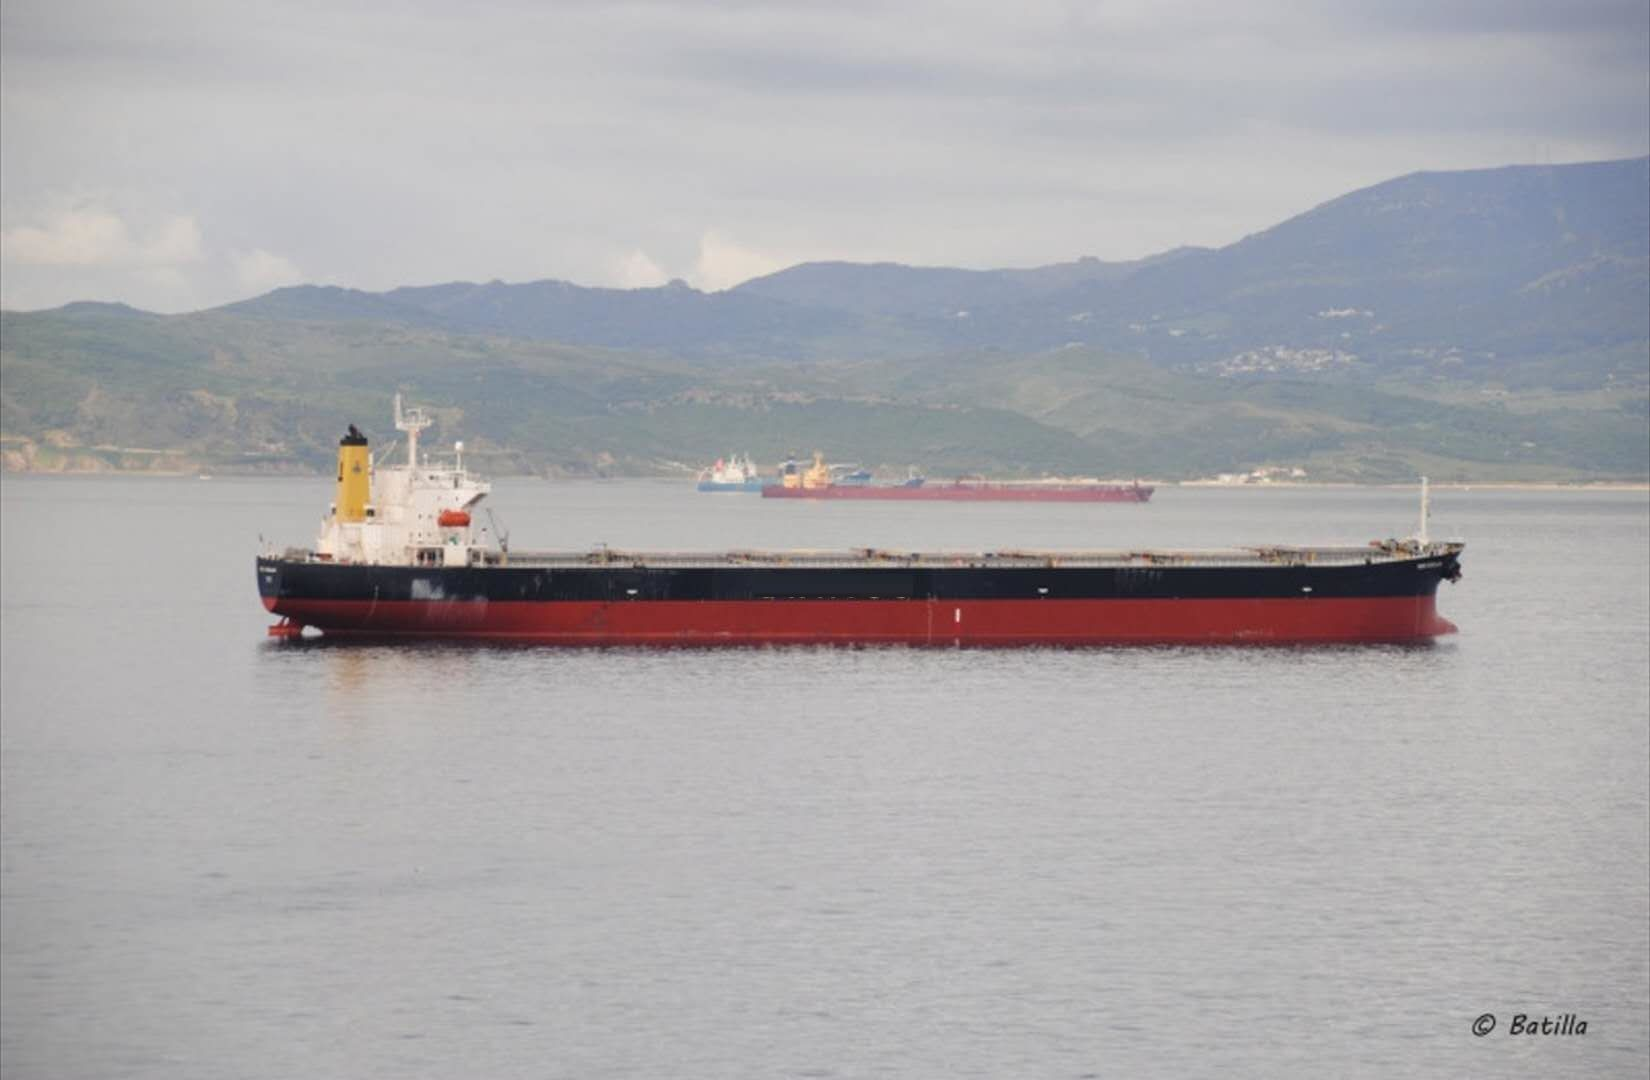Cargoship: (237, 392, 1474, 662), (744, 450, 1179, 506), (686, 441, 936, 494)
